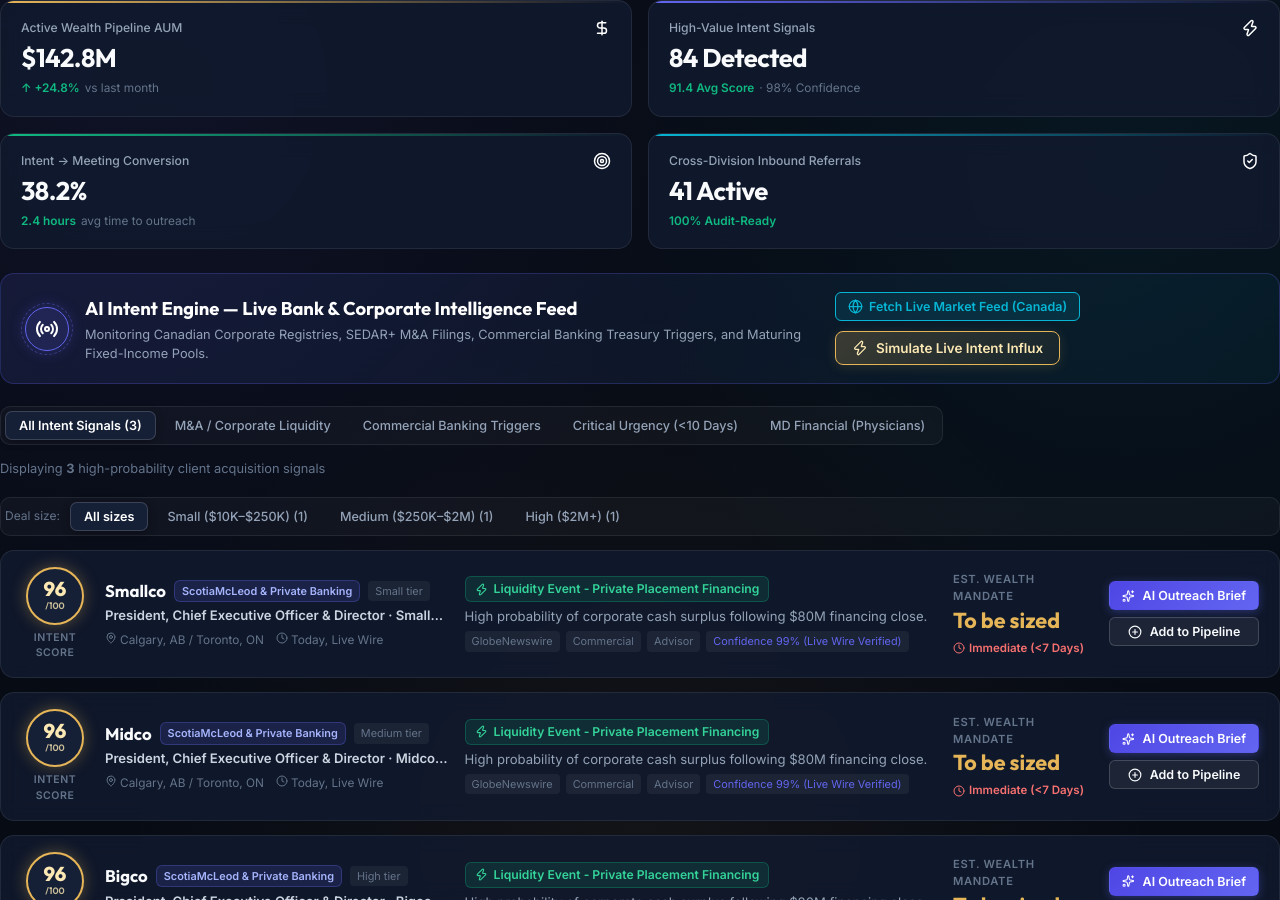
Test: IntentEngineView Component › filters leads by deal-size tier using the pipeline tier field
Click the button "Medium ($250K–$2M) (1)" at (417, 516), box [327, 503, 506, 530]
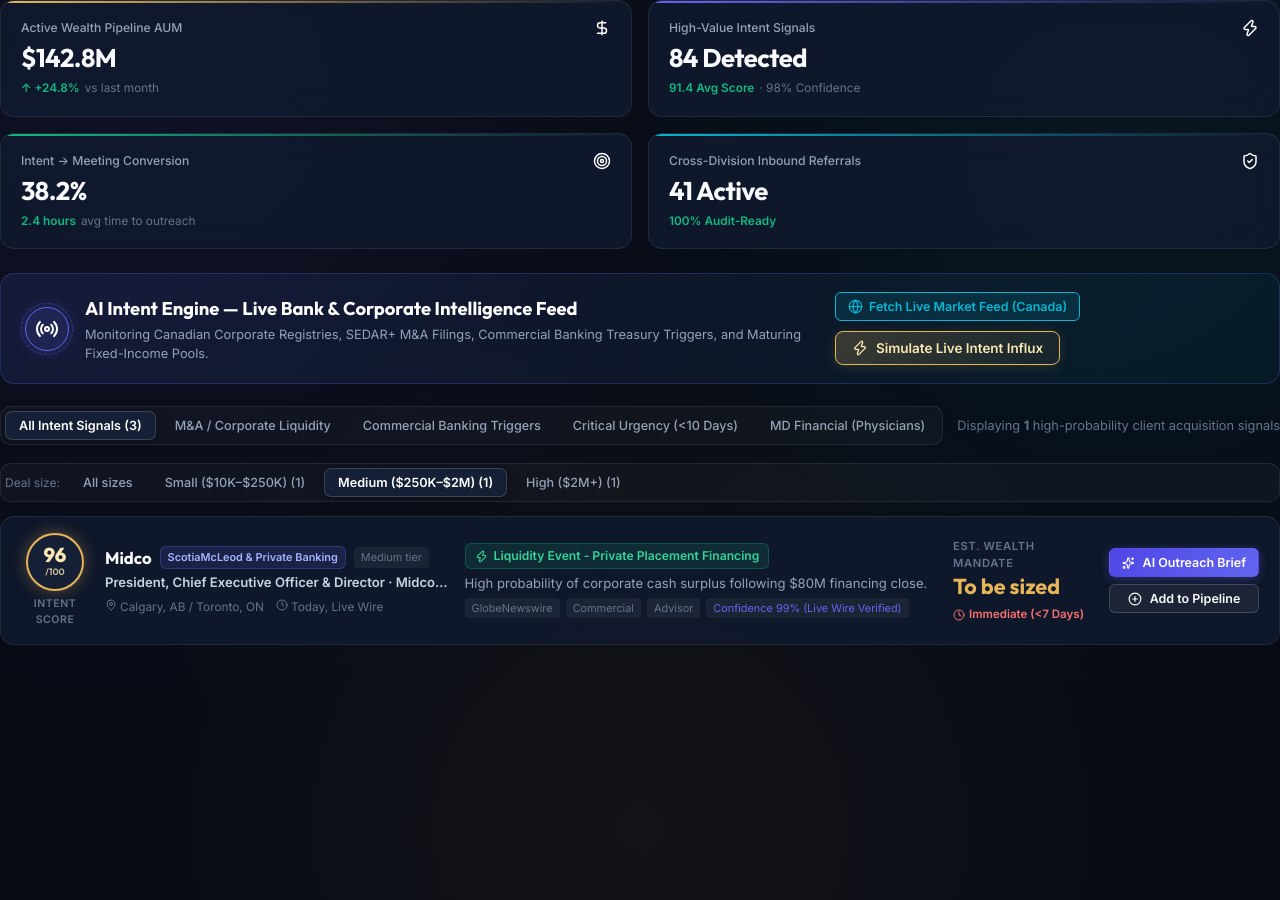
Expected: the text "Midco" is shown, [105, 545, 152, 570]
Expected: the text "Smallco" is gone
Expected: the text "Bigco" is gone
Click the button "All sizes" at (108, 483), box [70, 469, 146, 496]
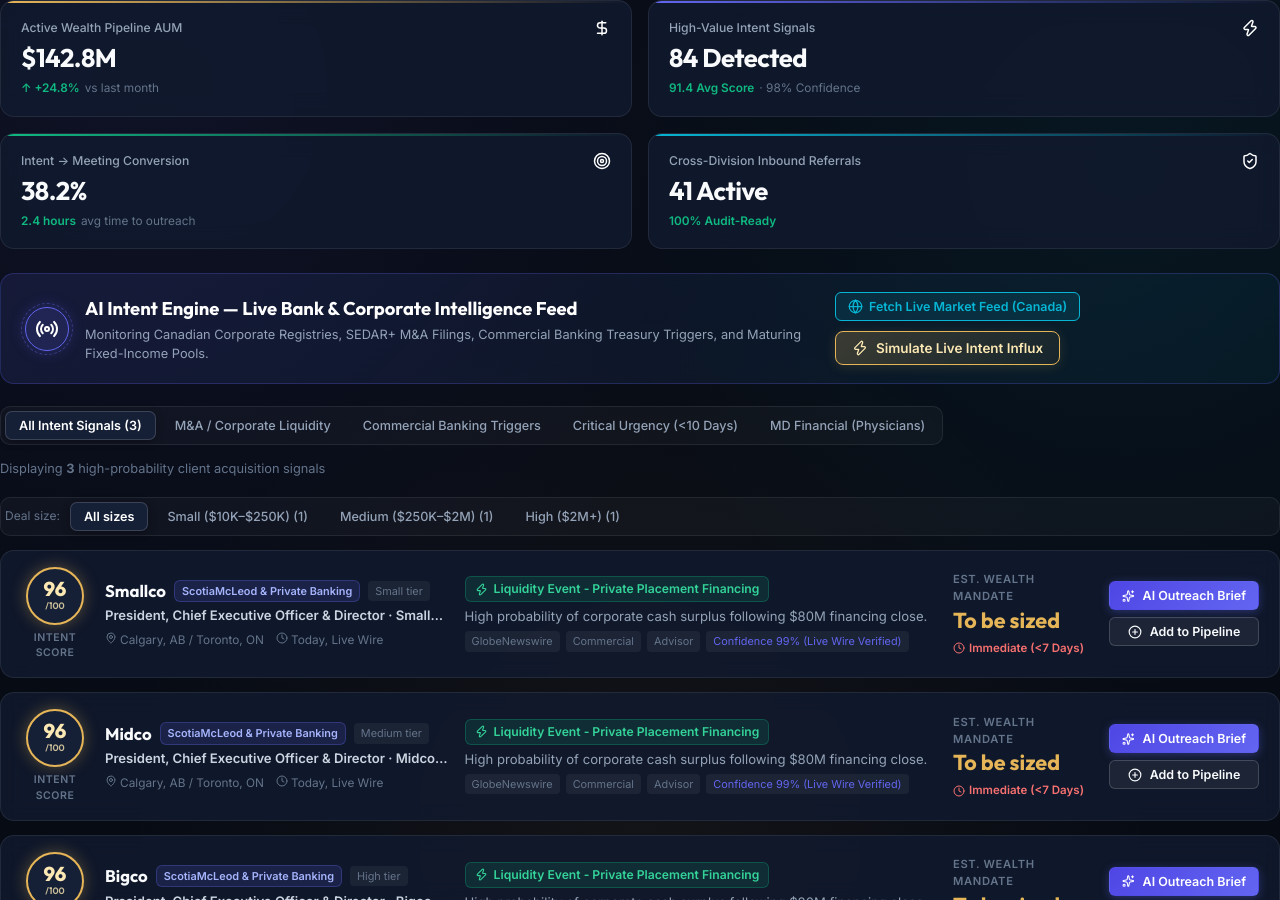
Expected: the text "Bigco" is shown, [105, 864, 148, 889]
